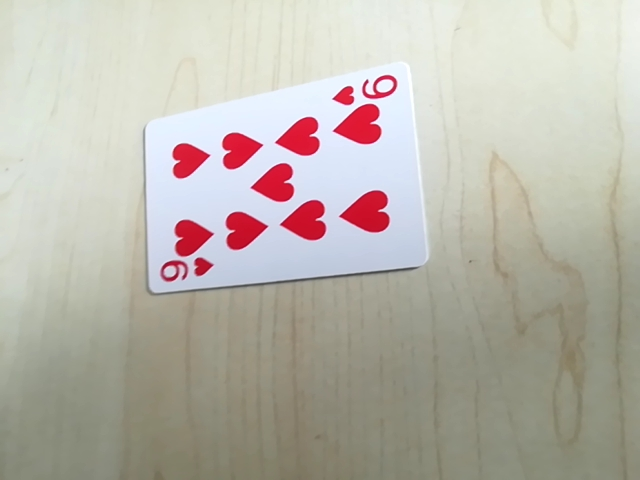hx 9: (330, 66, 401, 107), (154, 256, 218, 291)
